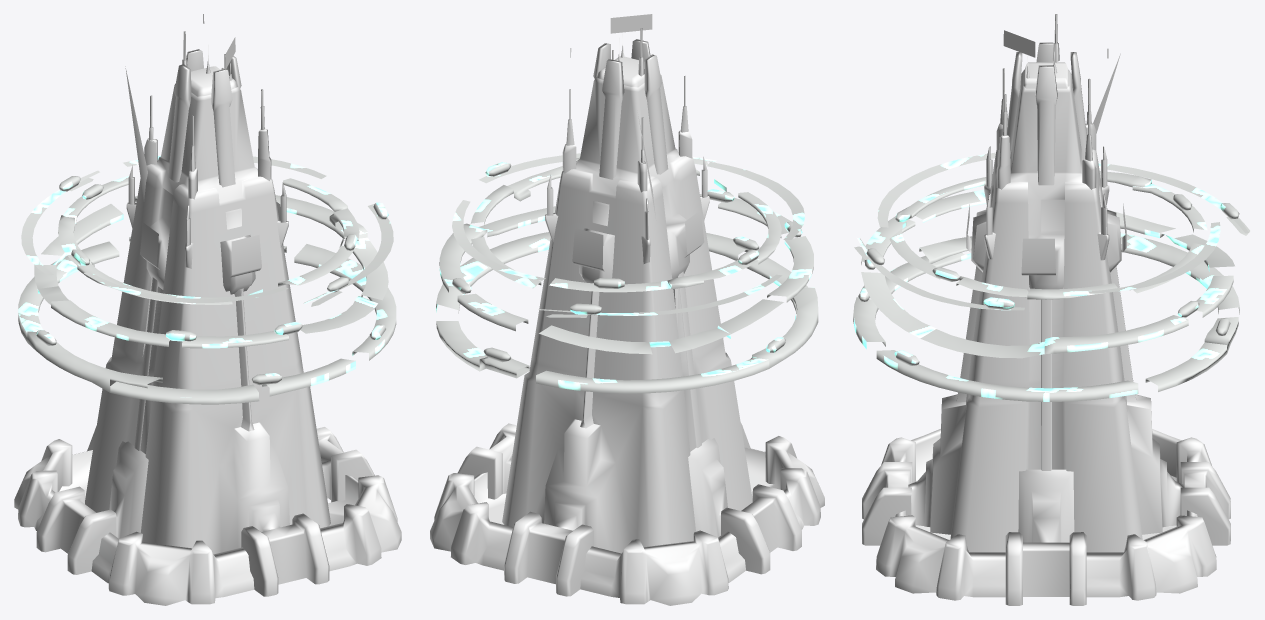
File: ville_v1_B.glb
3 views of the same model, side by side, from view 1: azimuth 30°, elevation 25°; view 2: azimuth 150°, elevation 25°; view 3: azimuth 270°, elevation 25° (orthographic). The views are drawn at different scales.
Visible parts, largest first — view 1: ville_v1; view 2: ville_v1; view 3: ville_v1.
Boxes of the visible parts, box(x1,y1,x2,y2) form: ville_v1: box(14, 14, 401, 605); ville_v1: box(430, 14, 824, 605); ville_v1: box(853, 14, 1249, 605).
Bounding box in the file's own units: 1.8 × 2.6 × 1.85.
Materials: 2 (2 with a texture image).
